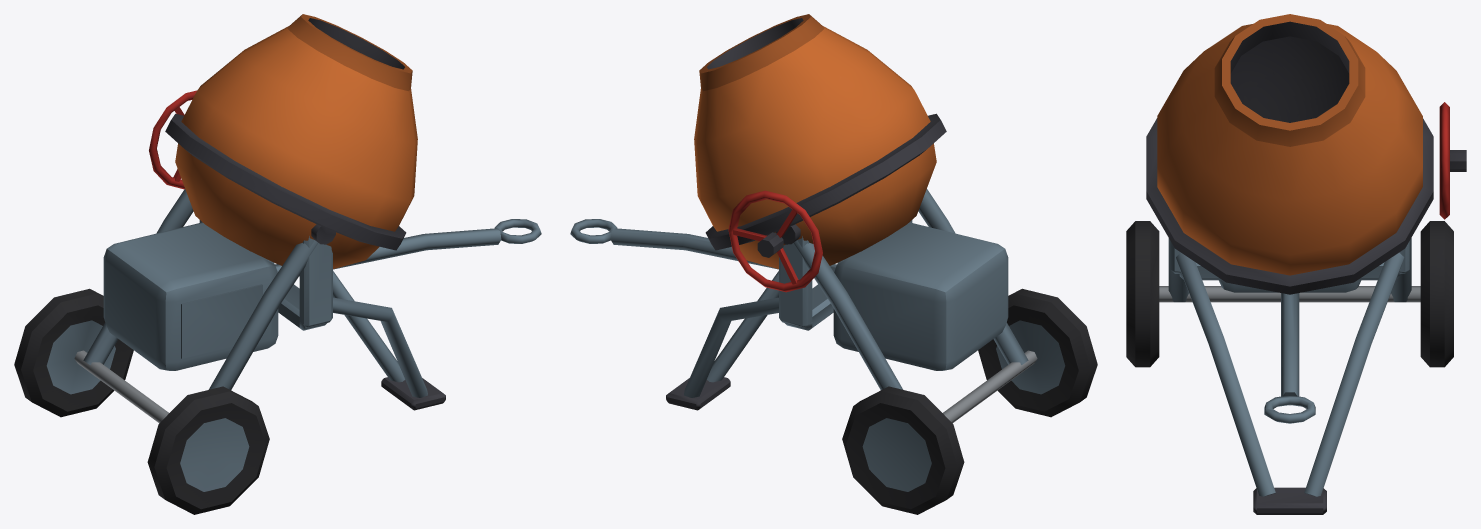
The model's file is CementMixer.fbx.
The picture shows the model from 3 angles, left to right: view 1: azimuth 30°, elevation 25°; view 2: azimuth 150°, elevation 25°; view 3: azimuth 270°, elevation 25°; orthographic projection. The views are drawn at different scales.
Visible parts, largest first — view 1: CementMixer; view 2: CementMixer; view 3: CementMixer.
Boxes of the visible parts, bbox=[...] form: CementMixer: bbox=[14, 14, 541, 514]; CementMixer: bbox=[570, 14, 1097, 514]; CementMixer: bbox=[1126, 14, 1466, 514].
Size of the model in its own units: 1.57 by 1.31 by 0.925.
